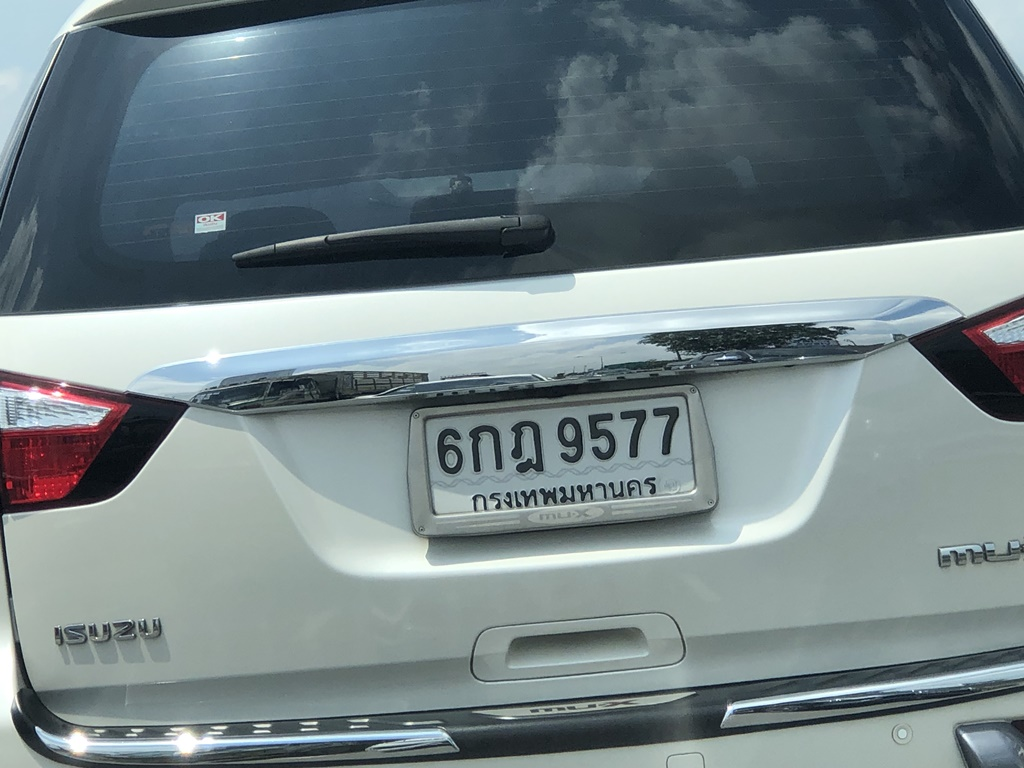five: (581, 406, 621, 466)
nine: (546, 409, 595, 467)
seven: (614, 403, 655, 471), (648, 399, 689, 467)
six: (418, 423, 470, 481)
